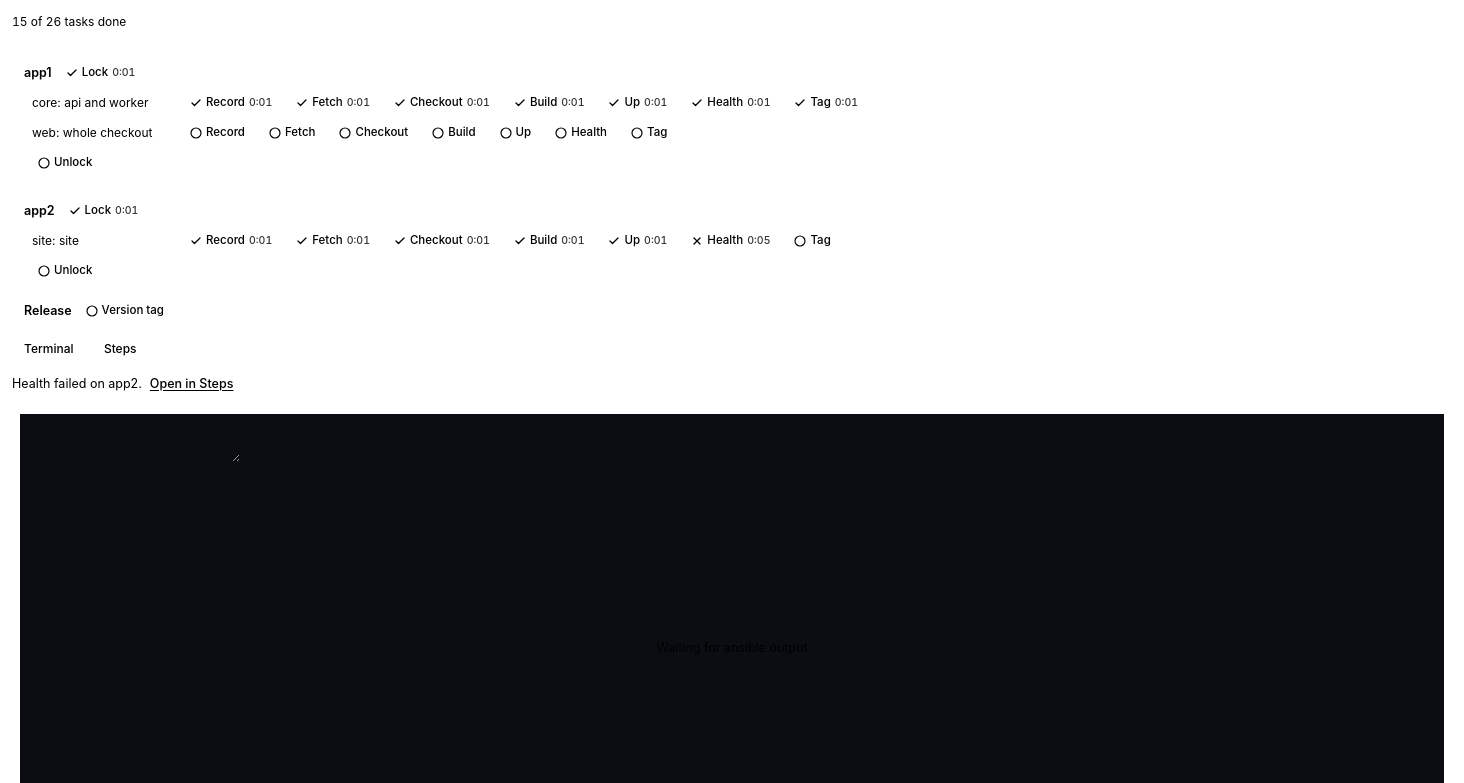
Test: release view switch › a failed release names the failure over the console and opens it in Steps, without changing the default
Check: the element with test id "terminal-failure" shows "Health failed on app2", box [12,376,138,391]
Click the button "Open in Steps". click: point(192, 384)
box: [150,375,233,394]
(page scrolled)
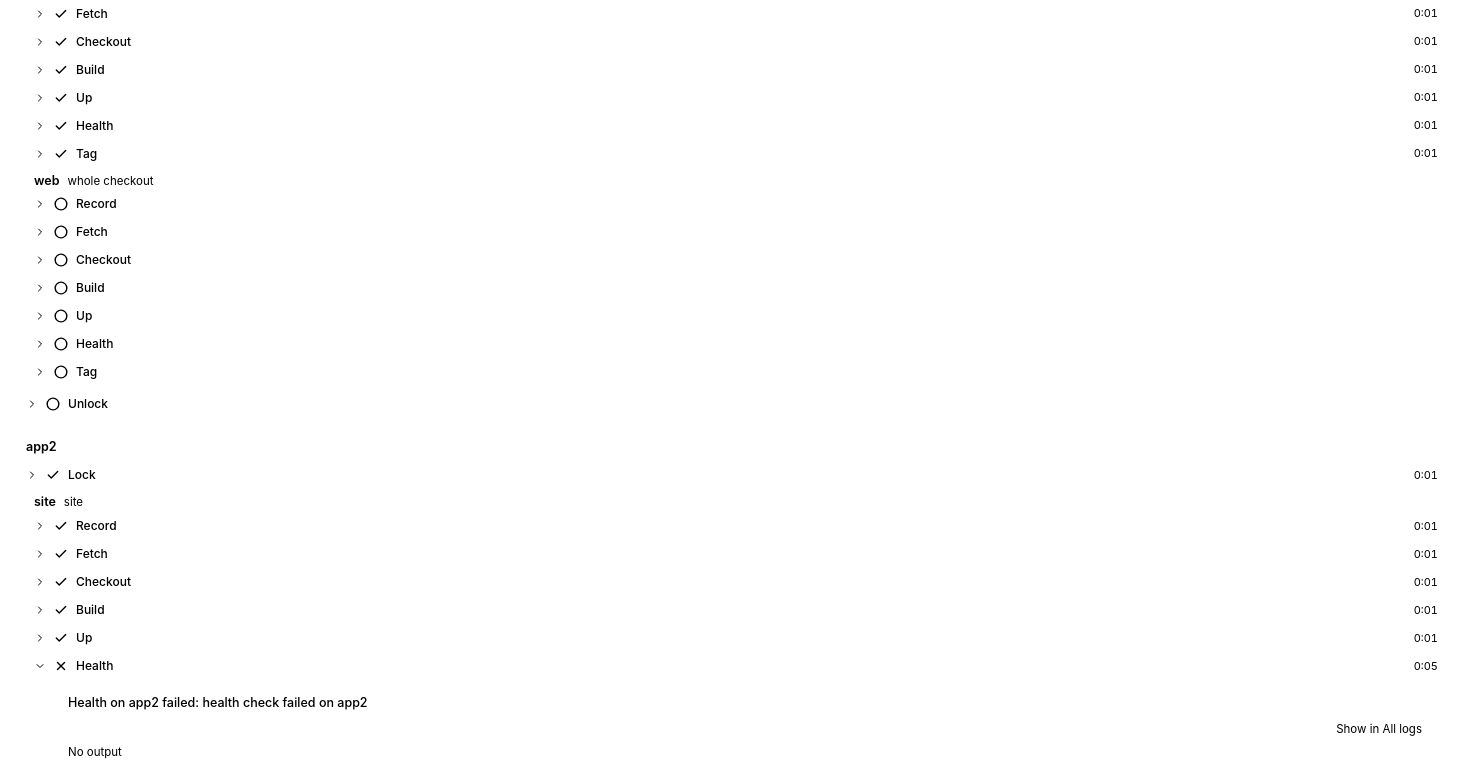
Check: the element "Health on app2 failed" is shown, box [56,686,1440,777]
